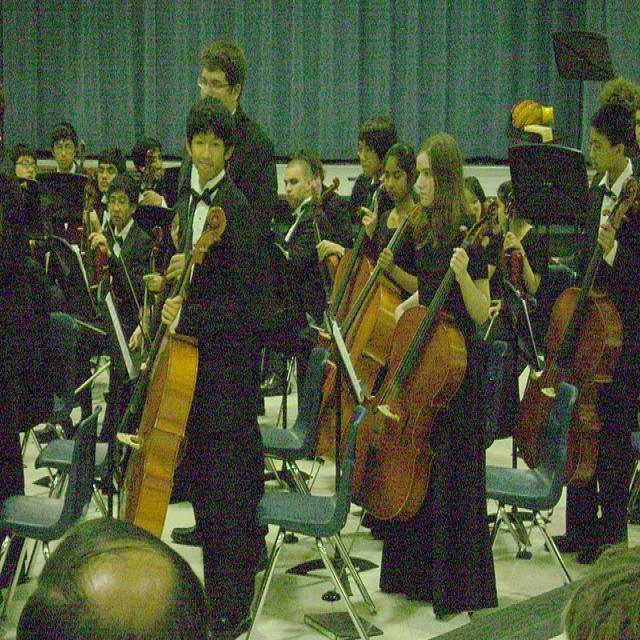cello: (343, 196, 503, 530), (510, 172, 639, 488), (120, 202, 227, 542), (309, 197, 427, 455), (326, 182, 380, 328)
